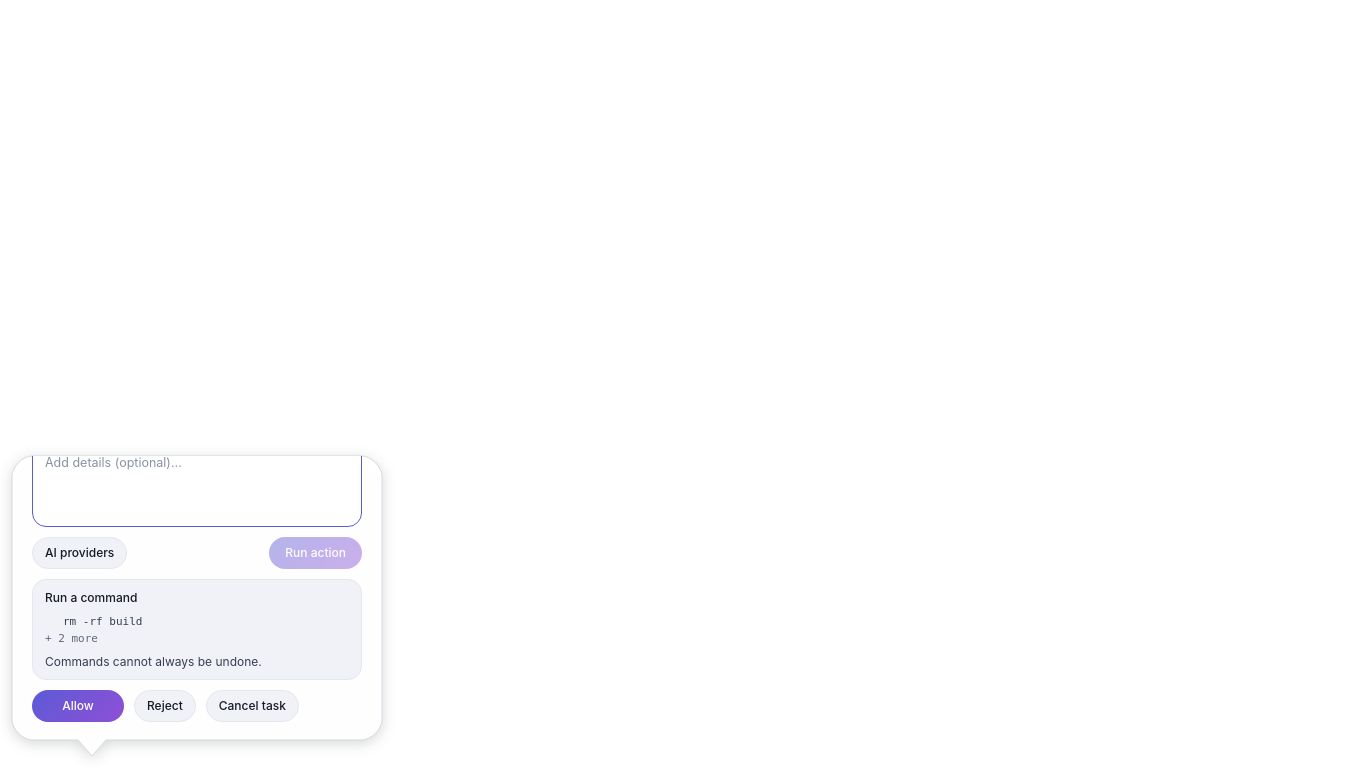
the pet bubble › answers the exact approval in plain words, never the payload
Expected: the element with class "mono" is shown, x1=32 y1=579 x2=362 y2=680
Click the button "Allow" at (78, 706), box x1=32 y1=690 x2=124 y2=722
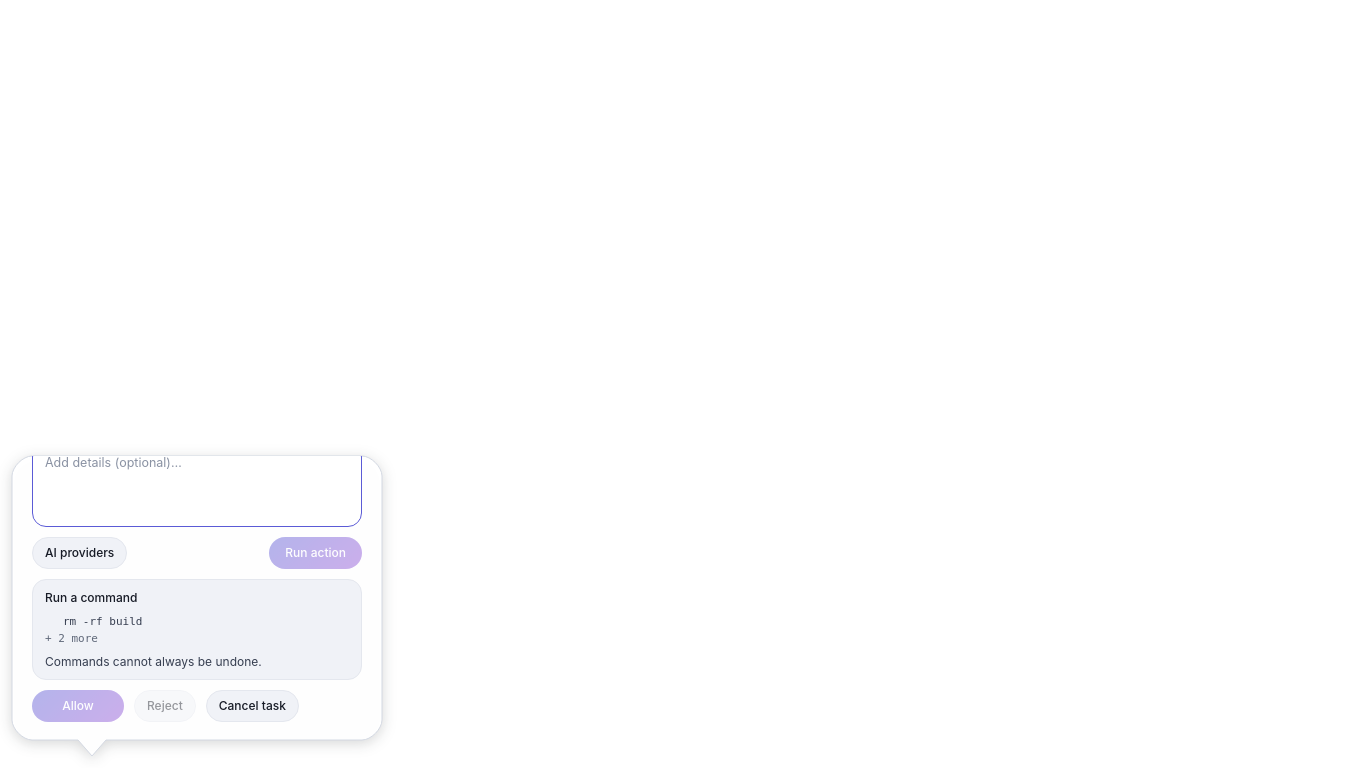
Expected: the button "Reject" is disabled, x1=134 y1=690 x2=196 y2=722
